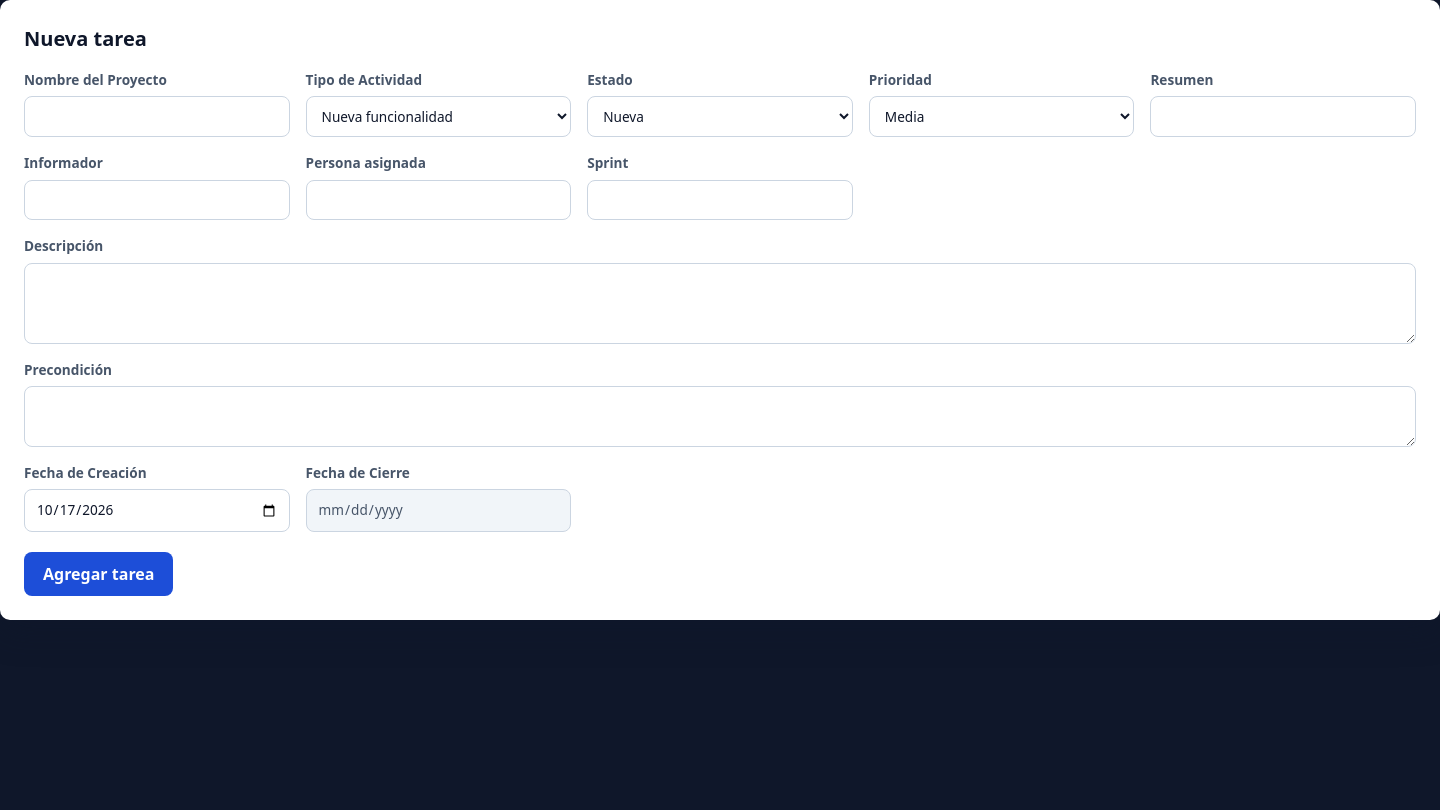
it: TaskForm › no guarda si faltan campos obligatorios y avisa al usuario
Click the button "Agregar tarea" at x=99, y=574, box top-left (24, 552), bottom-right (174, 596)
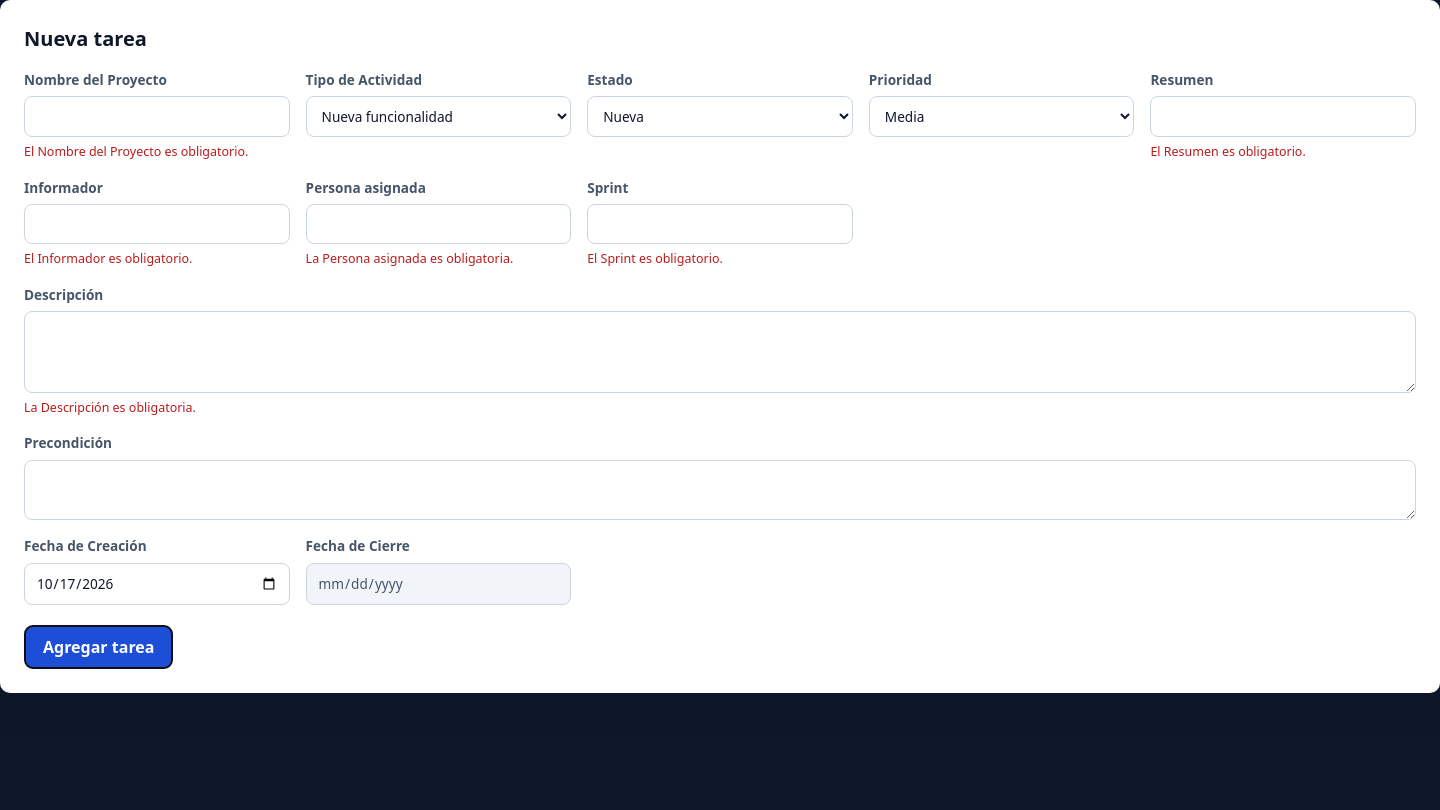
Expected: the text "El Nombre del Proyecto es obligatorio." is shown 6 times, top-left (24, 143), bottom-right (248, 160); top-left (1150, 143), bottom-right (1306, 160); top-left (24, 250), bottom-right (192, 267); top-left (306, 250), bottom-right (513, 267); top-left (587, 250), bottom-right (723, 267); top-left (24, 399), bottom-right (196, 416)
